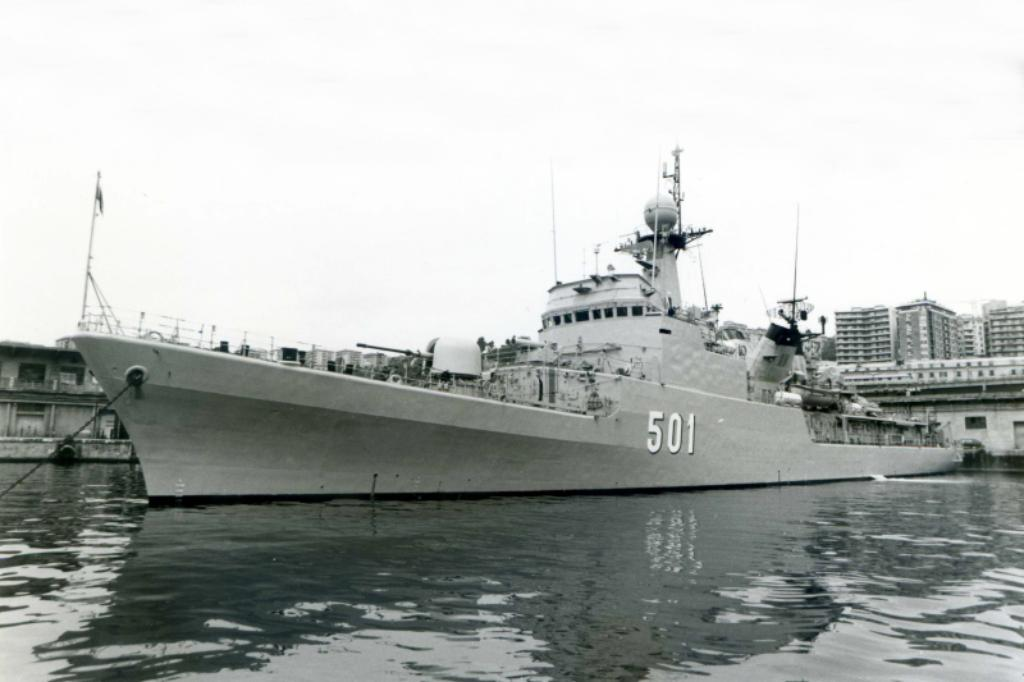Warship: (68, 147, 968, 510)
